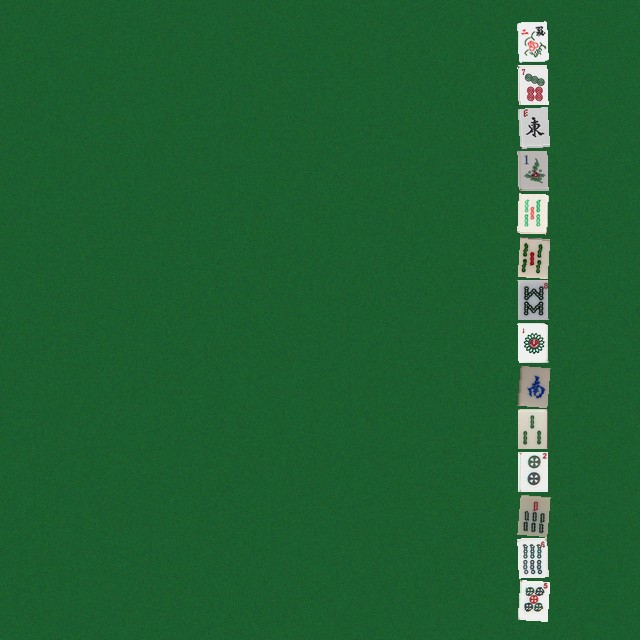tile: (517, 21, 547, 61), (517, 64, 547, 104), (517, 107, 547, 147), (517, 150, 547, 190), (517, 193, 547, 233), (517, 236, 547, 276), (517, 279, 547, 319), (517, 322, 547, 362), (517, 365, 547, 405), (517, 408, 547, 448), (517, 451, 547, 491), (517, 494, 547, 534), (517, 537, 547, 577), (517, 580, 547, 620)
